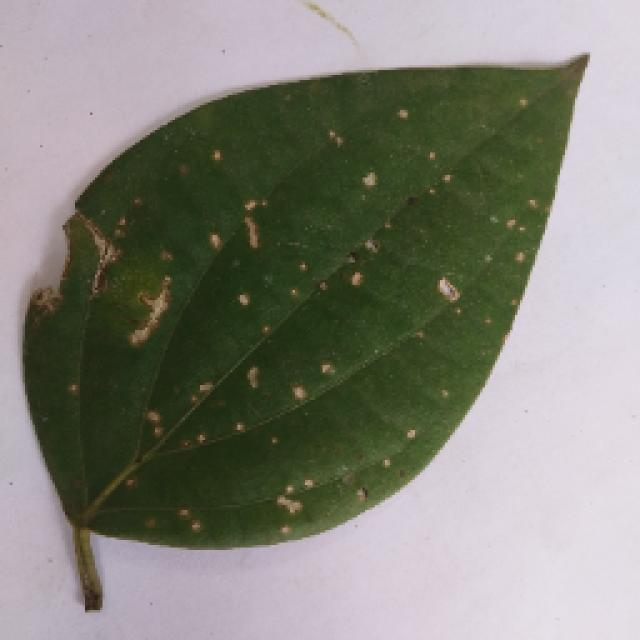pollu-disease: (22, 52, 588, 602)
